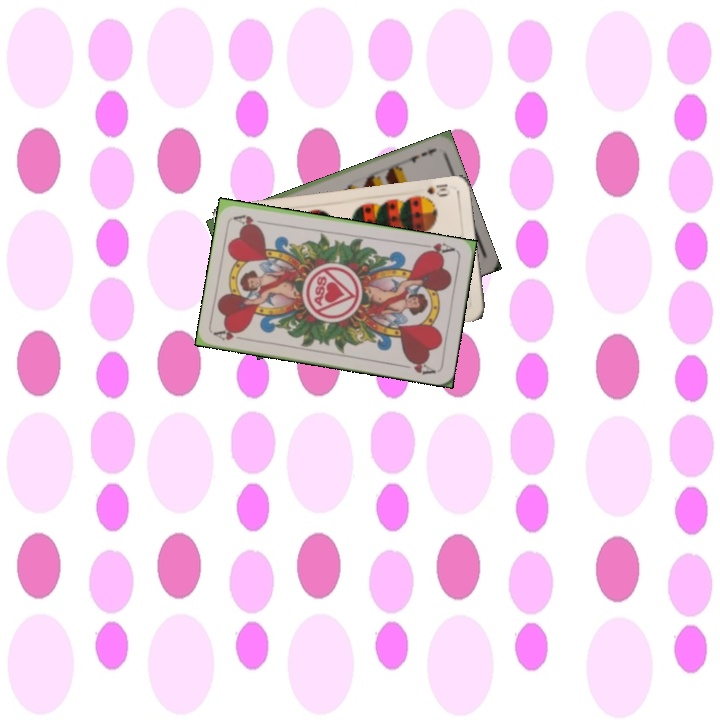E7: (400, 144, 439, 166)
HA: (417, 239, 458, 259), (212, 325, 252, 344)
S10: (423, 180, 453, 199)
